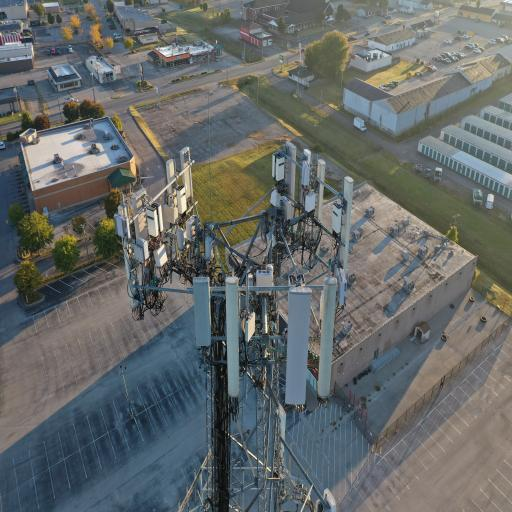supporting_tower: (113, 140, 354, 512)
